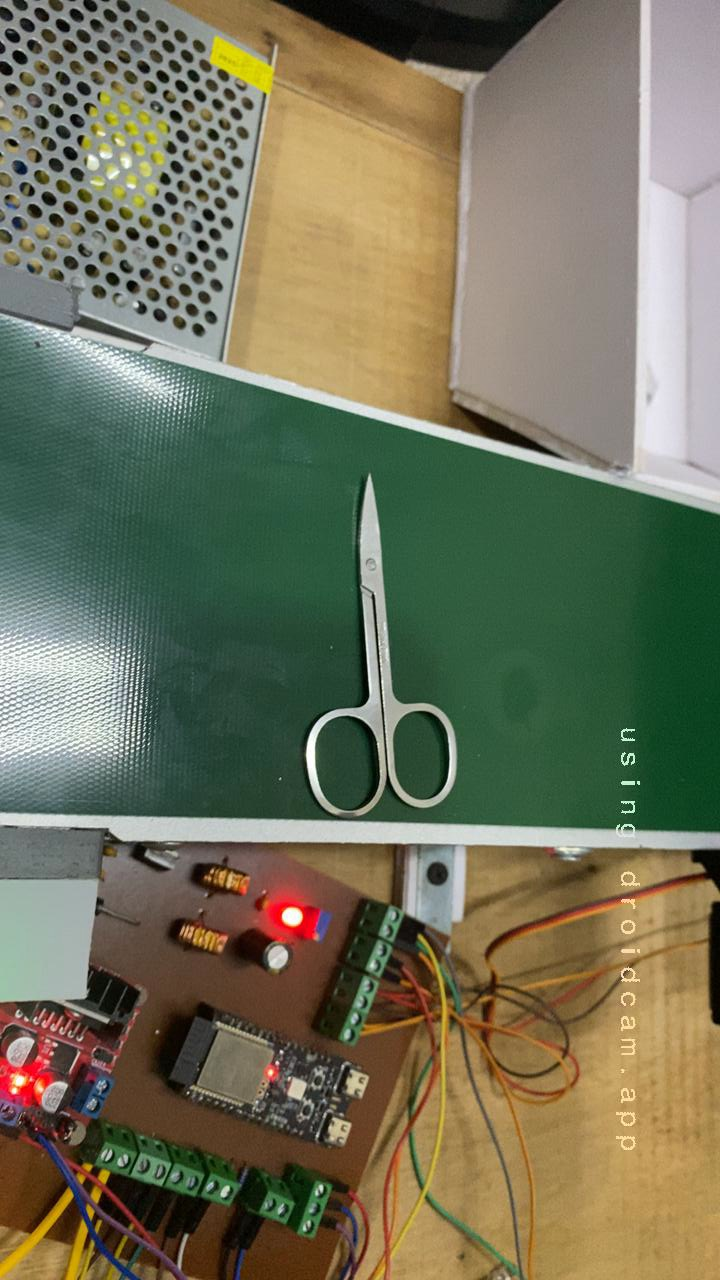scissor: (258, 461, 485, 828)
